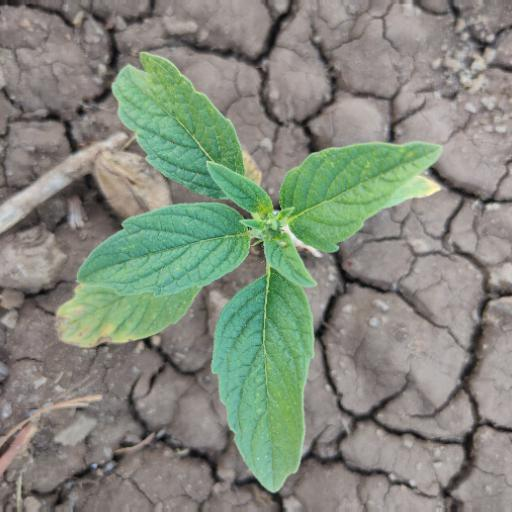crop: (56, 70, 440, 512)
